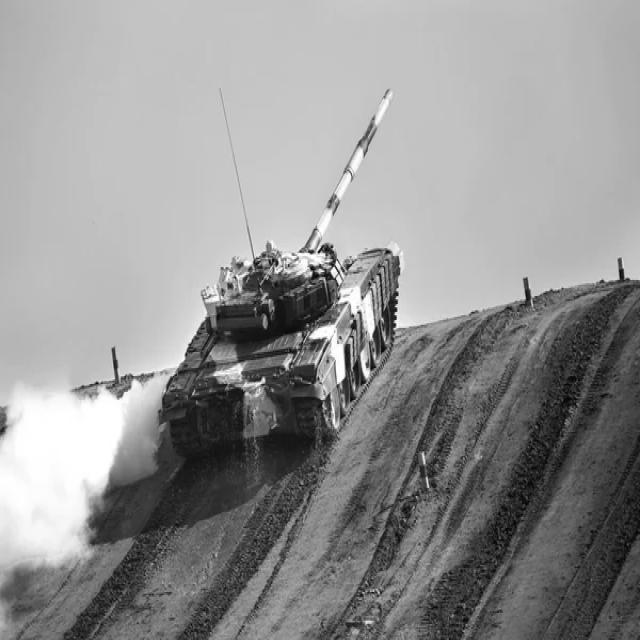Tank: (152, 74, 418, 476)
